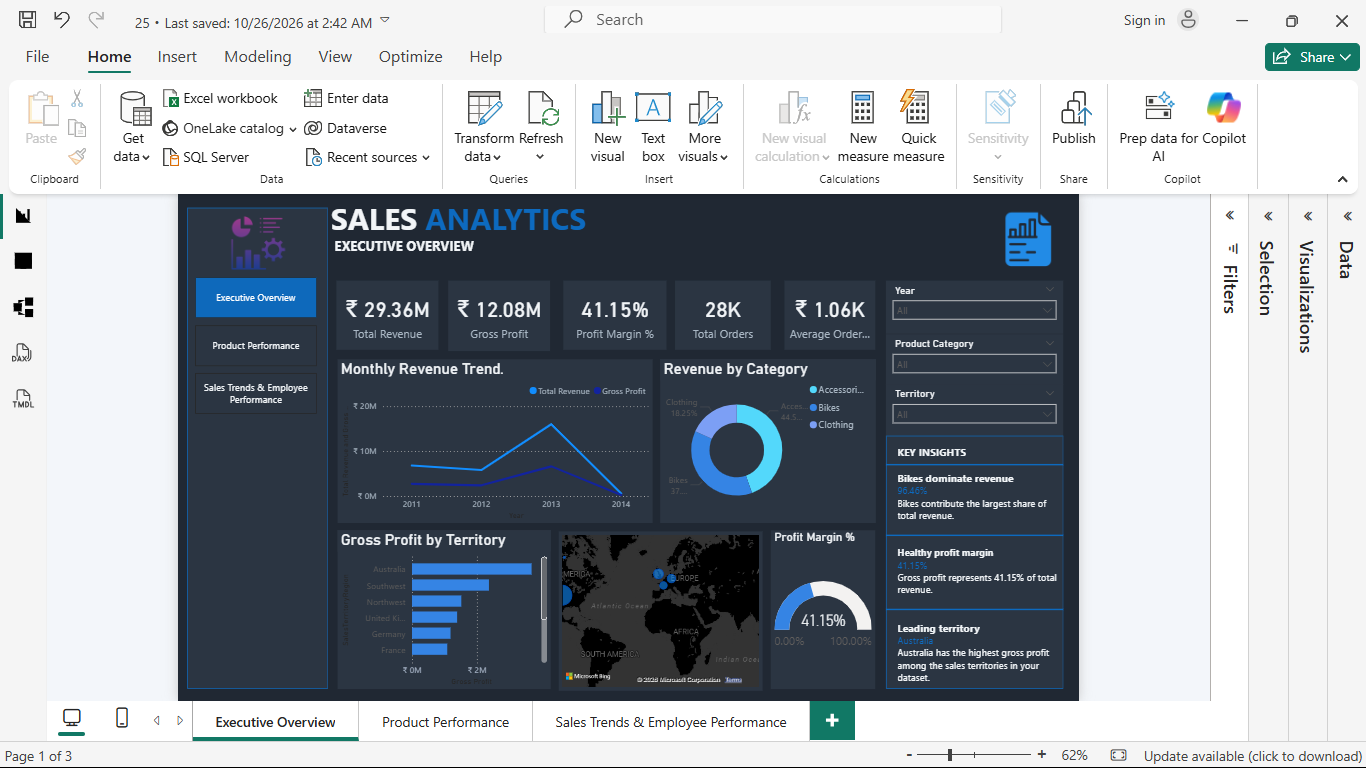

Layout of this report page (visuals, bound fields, positions):
{"tool":"powerbi","page":{"name":"Executive Overview","canvas":[1280,720],"ordinal":0},"visuals":[{"type":"card","fields":{"Values":["DimCustomer.Total Revenue"]},"box":[225.3,123.4,144.9,98.4],"z":0},{"type":"card","fields":{"Values":["DimCustomer.Profit Margin %"]},"box":[547.2,123.4,146.6,98.4],"z":1000},{"type":"card","fields":{"Values":["DimCustomer.Gross Profit"]},"box":[384.5,123.4,144.9,100.1],"z":2000},{"type":"card","fields":{"Values":["DimCustomer.Total Orders"]},"box":[706.4,123.4,135.9,98.4],"z":3000},{"type":"card","fields":{"Values":["DimCustomer.Average Order Value"]},"box":[862,123.4,128.8,98.4],"z":4000},{"type":"textbox","box":[212.8,0,377.3,119.8],"z":5000},{"type":"lineChart","title":"Monthly Revenue Trend.","fields":{"Category":["DimDate.FullDateAlternateKey.Variation.Date Hierarchy.Year","DimDate.FullDateAlternateKey.Variation.Date Hierarchy.Quarter","DimDate.FullDateAlternateKey.Variation.Date Hierarchy.Month","DimDate.FullDateAlternateKey.Variation.Date Hierarchy.Day"],"Y":["DimCustomer.Total Revenue","DimCustomer.Gross Profit"]},"box":[227.1,234.3,447.1,232.5],"z":6000},{"type":"donutChart","title":"Revenue by Category","fields":{"Category":["DimProductCategory.EnglishProductCategoryName"],"Y":["DimCustomer.Total Orders"]},"box":[684.9,234.3,305.8,232.5],"z":7000},{"type":"clusteredBarChart","title":"Gross Profit by Territory","fields":{"Category":["DimSalesTerritory.SalesTerritoryRegion"],"Y":["DimCustomer.Gross Profit"]},"box":[227.1,477.5,302.2,225.3],"z":8000},{"type":"slicer","fields":{"Values":["DimDate.CalendarYear"]},"box":[1005,123.4,252.2,75.1],"z":9000},{"type":"actionButton","box":[12.5,21.5,100.1,39.3],"z":10000},{"type":"slicer","fields":{"Values":["DimProductCategory.EnglishProductCategoryName"]},"box":[1005,198.5,252.2,71.5],"z":11000},{"type":"slicer","fields":{"Values":["DimSalesTerritory.SalesTerritoryRegion"]},"box":[1005,270,252.2,73.3],"z":12000},{"type":"gauge","fields":{"Y":["DimCustomer.Profit Margin %"]},"box":[842.3,477.5,148.4,225.3],"z":13000},{"type":"shape","box":[12.5,19.7,200.3,683.1],"z":14000},{"type":"pageNavigator","box":[25,118,173.5,194.9],"z":15000},{"type":"shape","box":[1005,343.4,252.2,359.5],"z":16000},{"type":"textbox","box":[1016.9,351.3,240.6,351.3],"z":17000},{"type":"shape","box":[1005,377.3,252.2,14.3],"z":18000},{"type":"shape","box":[1005,583,252.2,14.3],"z":19000},{"type":"shape","box":[1005,477.5,252.2,14.3],"z":20000},{"type":"image","box":[26.8,19.7,173.5,94.8],"z":21000},{"type":"image","box":[1157.4,7,100.1,115.9],"z":22000},{"type":"map","fields":{"Category":["DimSalesTerritory.SalesTerritoryCountry"],"Size":["DimCustomer.Total Revenue"]},"box":[541,479.3,289.9,226],"z":23000}]}

Visuals, with their boxes on the page's 1280x720 design canvas (x1, y1, x2, y2). These are canvas units, not pixel positions in the 1366x768 screenshot, which may show the page scaled, cropped or inside an application window:
card - DimCustomer.Total Revenue: x1=225, y1=123, x2=370, y2=222
card - DimCustomer.Profit Margin %: x1=547, y1=123, x2=694, y2=222
card - DimCustomer.Gross Profit: x1=384, y1=123, x2=529, y2=224
card - DimCustomer.Total Orders: x1=706, y1=123, x2=842, y2=222
card - DimCustomer.Average Order Value: x1=862, y1=123, x2=991, y2=222
textbox: x1=213, y1=0, x2=590, y2=120
"Monthly Revenue Trend." lineChart: x1=227, y1=234, x2=674, y2=467
"Revenue by Category" donutChart: x1=685, y1=234, x2=991, y2=467
"Gross Profit by Territory" clusteredBarChart: x1=227, y1=478, x2=529, y2=703
slicer - DimDate.CalendarYear: x1=1005, y1=123, x2=1257, y2=198
actionButton: x1=12, y1=22, x2=113, y2=61
slicer - DimProductCategory.EnglishProductCategoryName: x1=1005, y1=198, x2=1257, y2=270
slicer - DimSalesTerritory.SalesTerritoryRegion: x1=1005, y1=270, x2=1257, y2=343
gauge - DimCustomer.Profit Margin %: x1=842, y1=478, x2=991, y2=703
shape: x1=12, y1=20, x2=213, y2=703
pageNavigator: x1=25, y1=118, x2=198, y2=313
shape: x1=1005, y1=343, x2=1257, y2=703
textbox: x1=1017, y1=351, x2=1258, y2=703
shape: x1=1005, y1=377, x2=1257, y2=392
shape: x1=1005, y1=583, x2=1257, y2=597
shape: x1=1005, y1=478, x2=1257, y2=492
image: x1=27, y1=20, x2=200, y2=114
image: x1=1157, y1=7, x2=1258, y2=123
map - DimSalesTerritory.SalesTerritoryCountry x DimCustomer.Total Revenue: x1=541, y1=479, x2=831, y2=705
